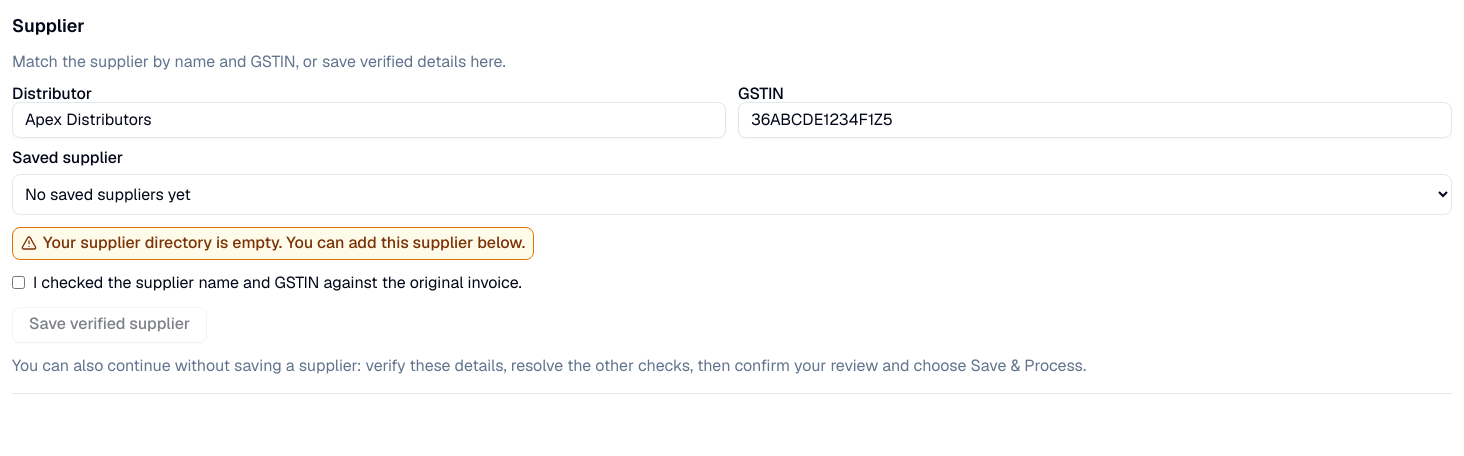
it: keeps values and verification on a failed save so an idempotent retry is available
The image size is (1464, 456).
Click the checkbox labelled "I checked the supplier" at (18, 282), box [12,276,25,289]
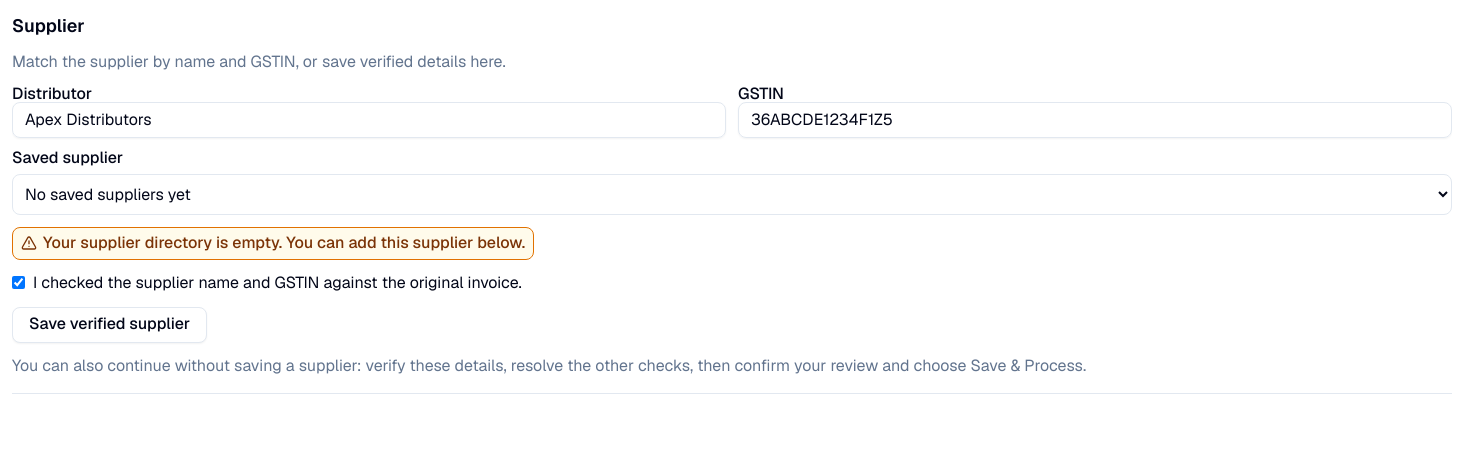
Click the button "Save verified supplier" at (110, 324), box [12,306,207,342]
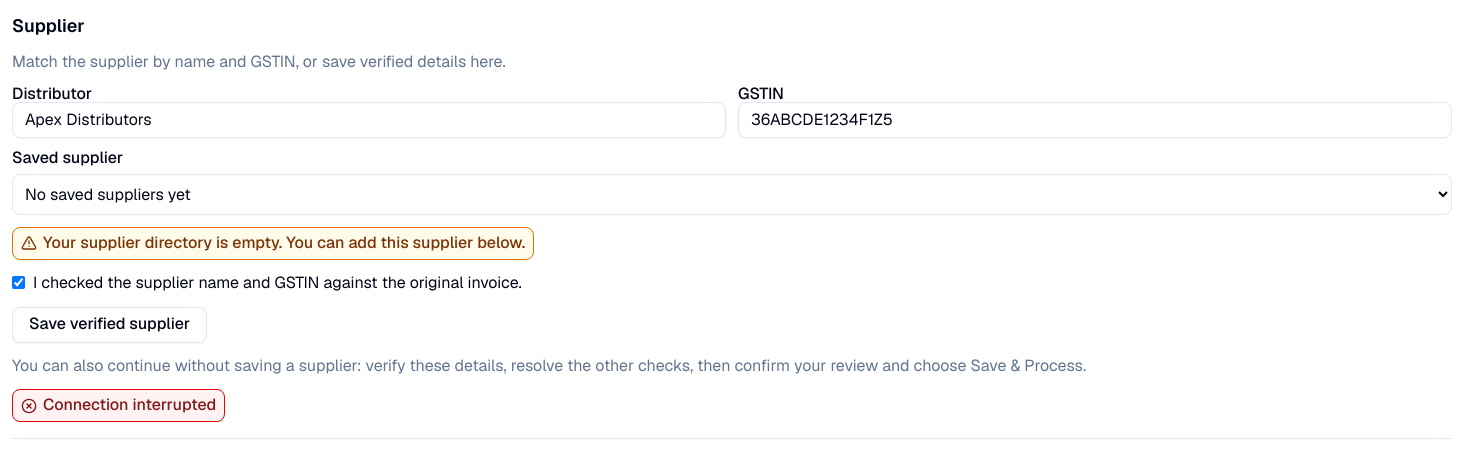
Expected: the field labelled "GSTIN" holds "36ABCDE1234F1Z5", [738,102,1452,138]
Expected: the message "Connection interrupted" is shown, [12,389,225,422]
Click the button "Save verified supplier" at (110, 324), box [12,306,207,342]
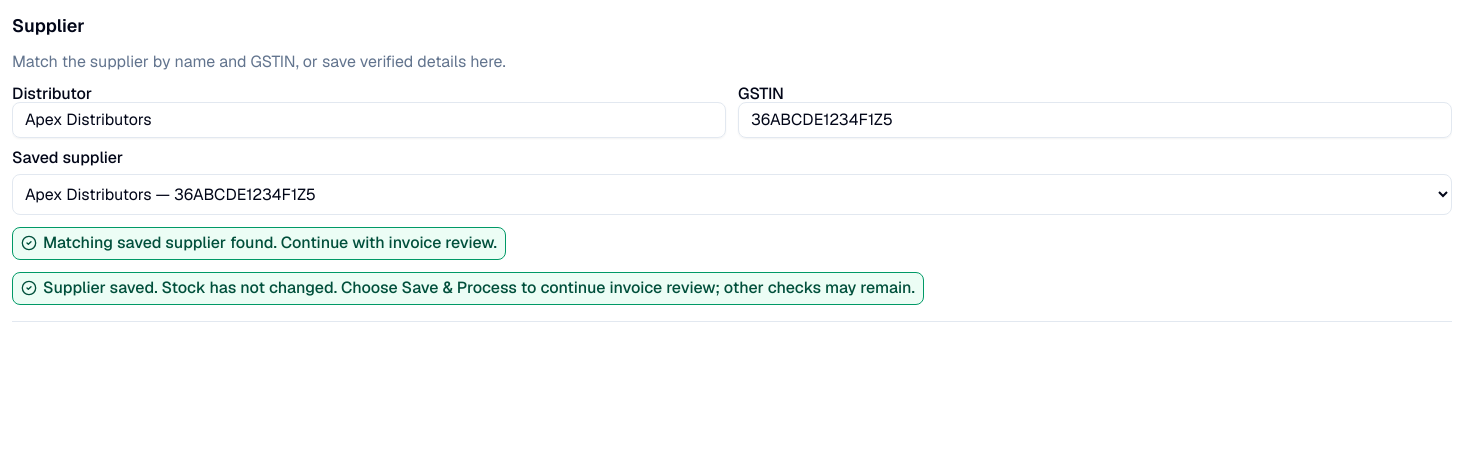
Expected: the text "Supplier saved" is shown, [43,277,915,298]
